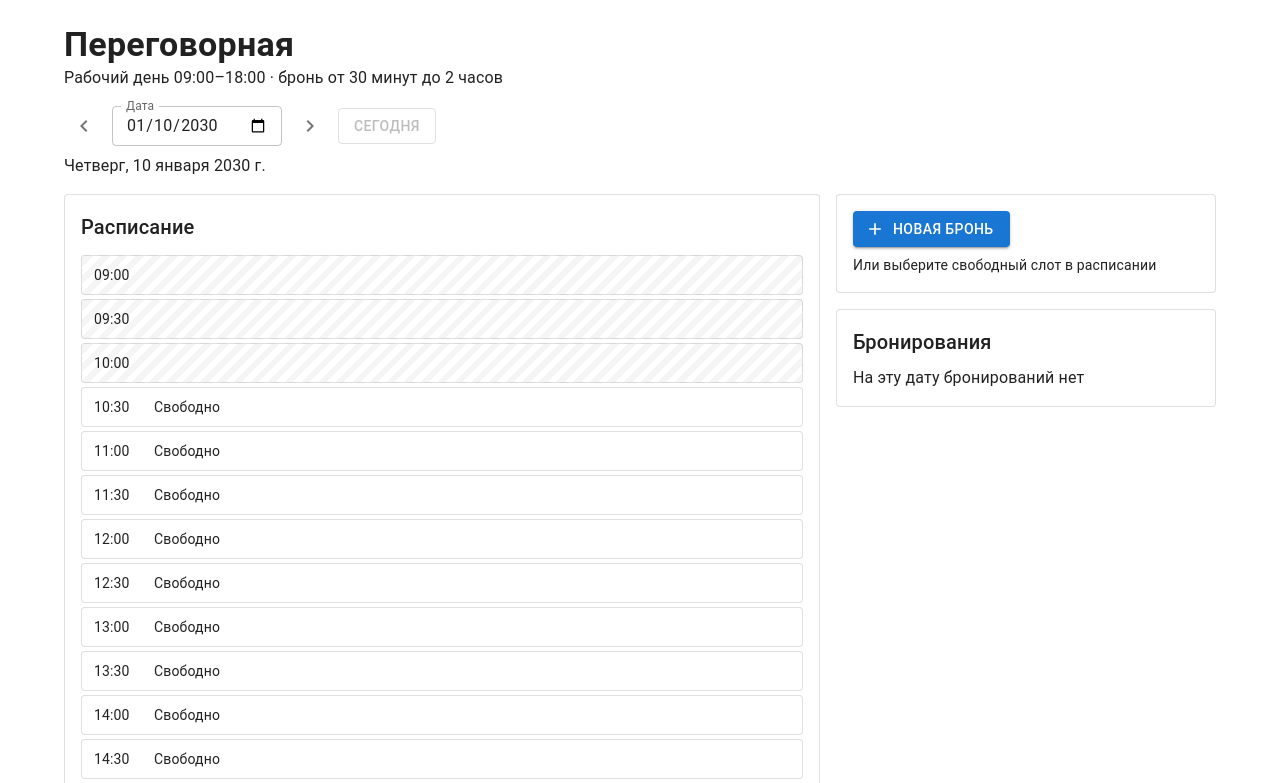
Test case: создание брони › клик по свободному слоту → форма → бронь в списке
The width and height of the screenshot is (1280, 783).
Check: the button "10:30 Свободно" is shown, box [81,387,803,427]
Step 1. Click the button "11:00 Свободно" → (112,451), box [81,431,803,471]
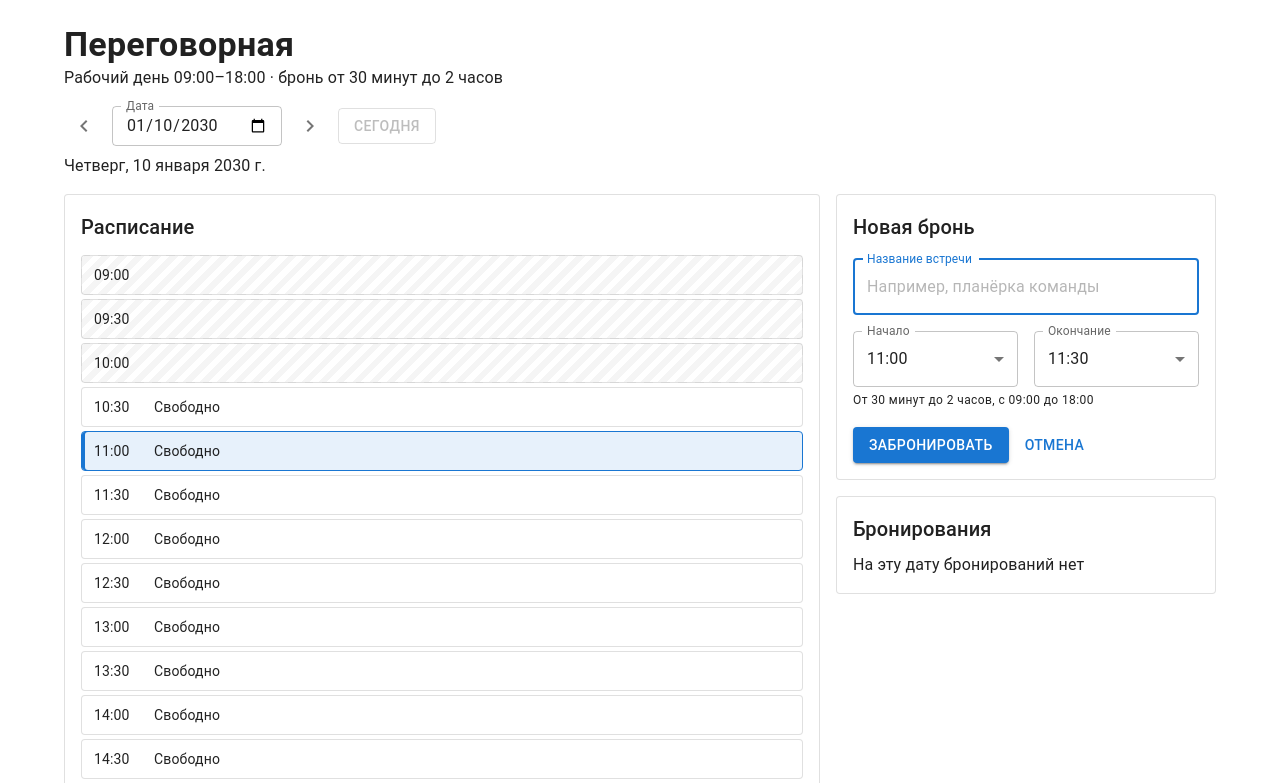
Check: the dropdown named "Начало" reads "11:00", box [867,350,908,368]
Check: the dropdown named "Окончание" reads "11:30", box [1048,350,1089,368]
Step 2. Type "Планёрка" into the field labelled "Название встречи" → (1026,287), box [853,259,1199,315]
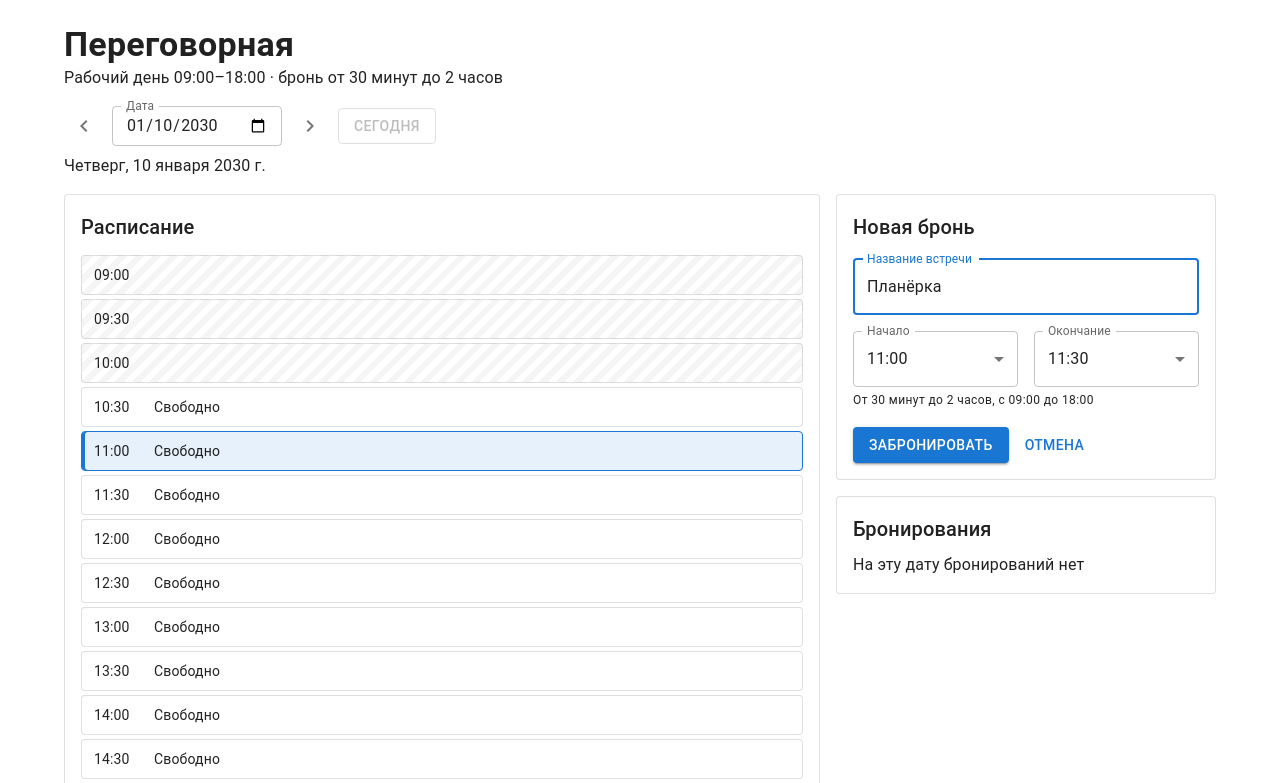
Step 3. Click the dropdown named "Окончание" → (1068,359), box [1048,350,1089,368]
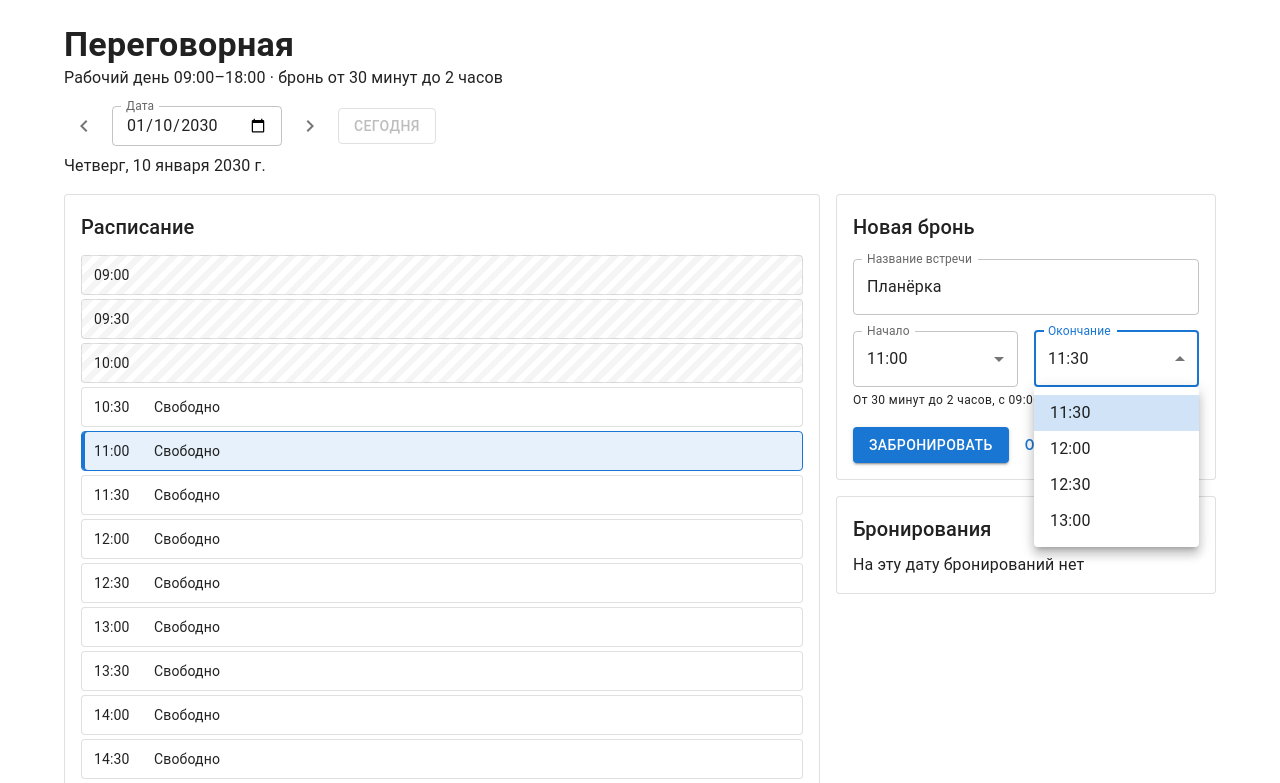
Step 4. Click the option "12:00" → (1070,448), box [1050,439,1091,458]
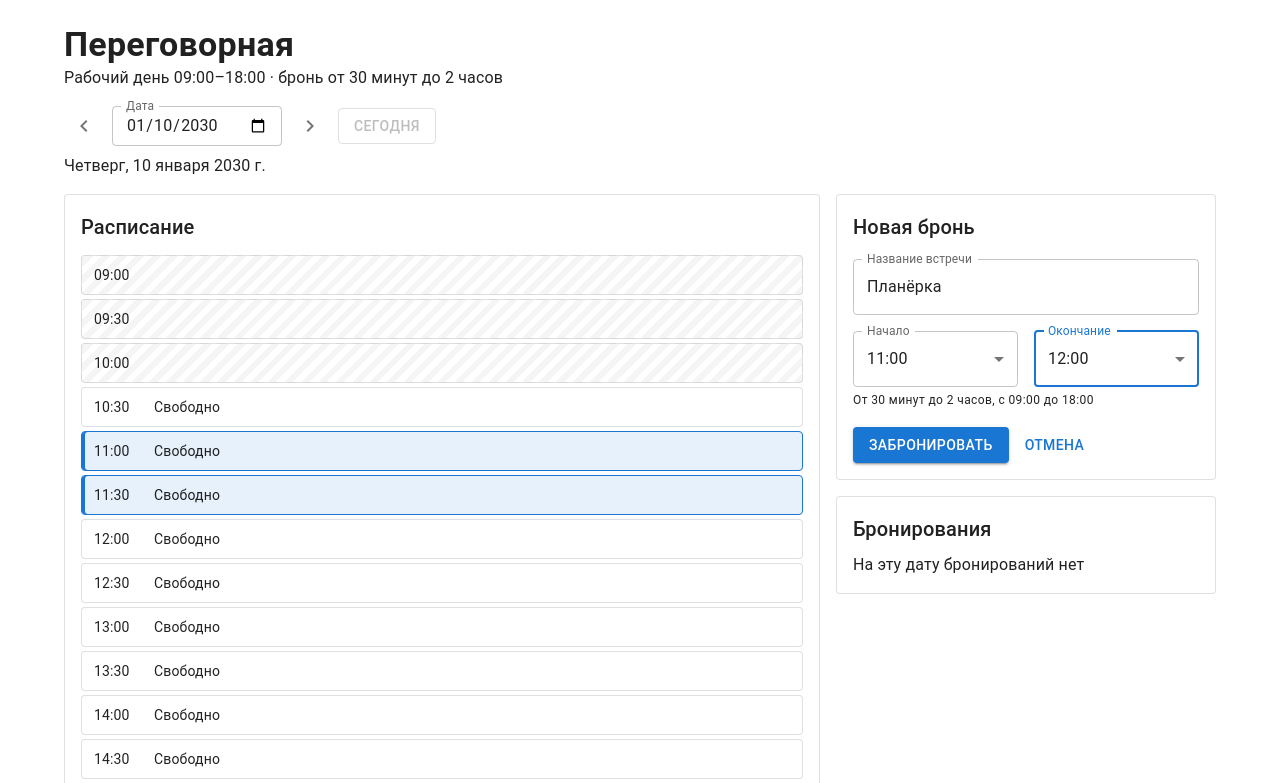
Step 5. Click the button "Забронировать" → (931,445), box [853,427,1009,463]
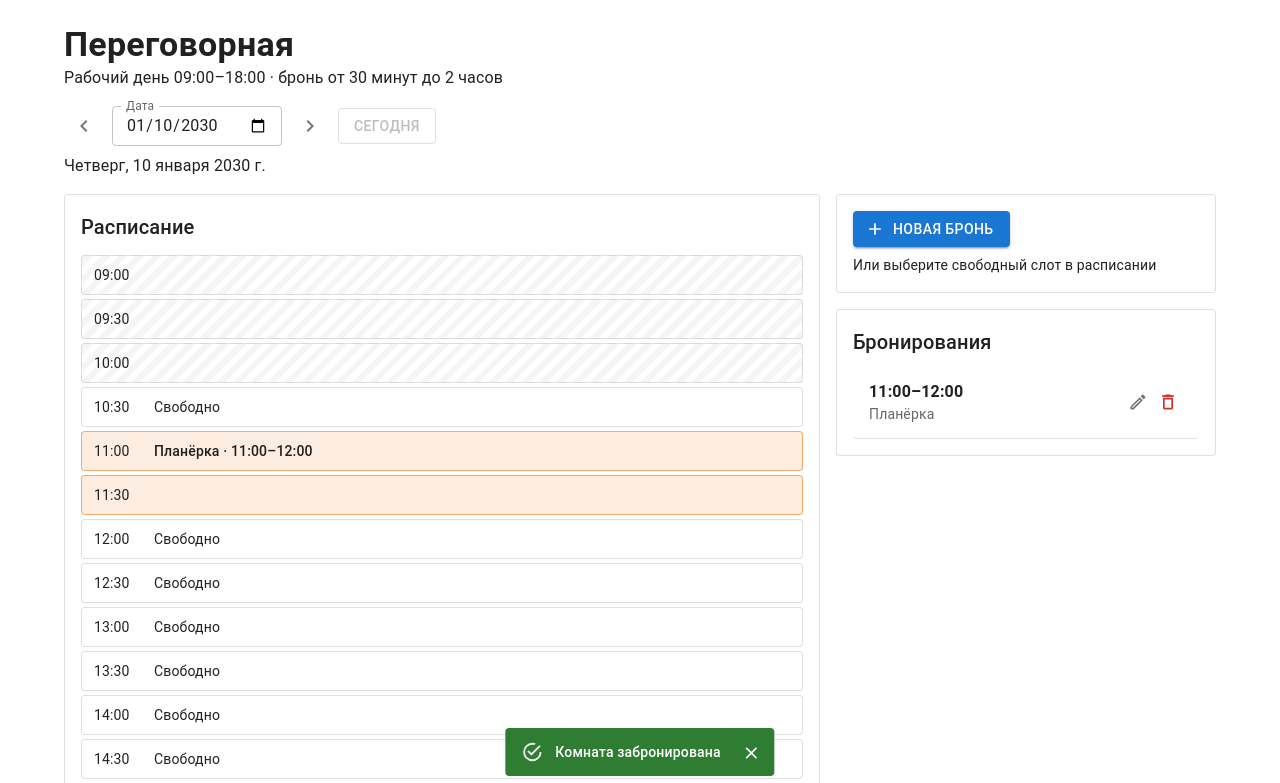
Check: the text "Комната забронирована" is shown, box [555,744,721,760]
Check: the text "11:00–12:00" is shown, box [869,382,963,400]
